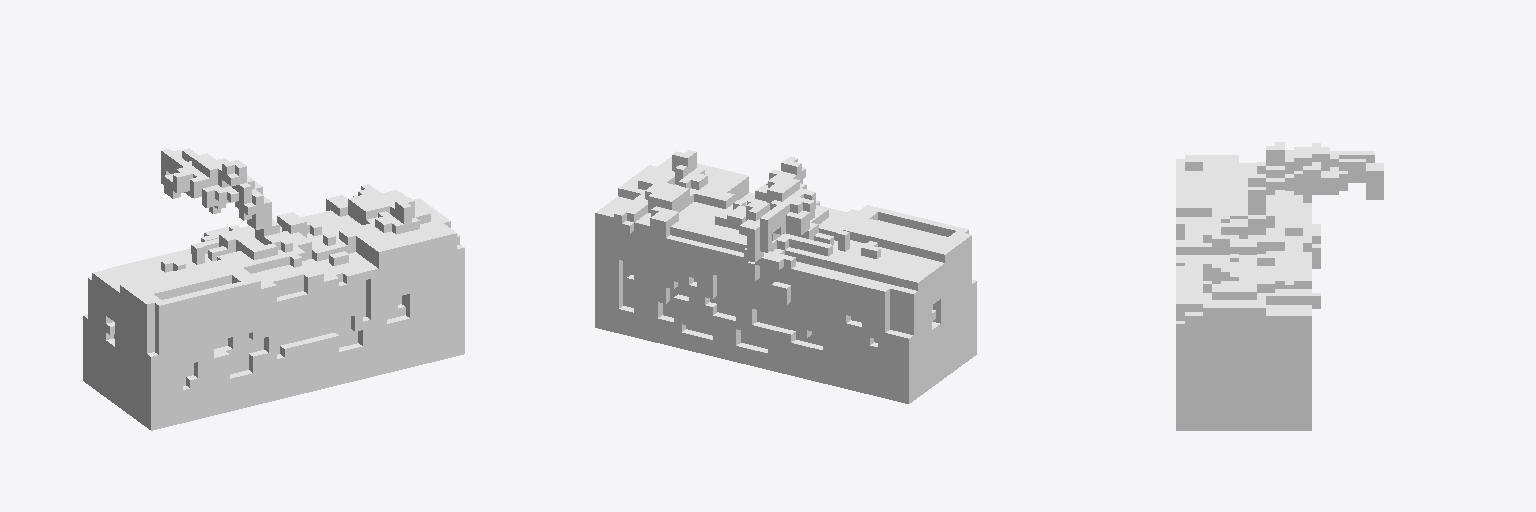
Rendered from newall2-0-newal1.obj.
The picture shows the model from 3 angles: view 1: azimuth 30°, elevation 25°; view 2: azimuth 150°, elevation 25°; view 3: azimuth 270°, elevation 25°; orthographic projection.
Visible parts, largest first — view 1: newal1; view 2: newal1; view 3: newal1.
Part boxes in pixels (left/top/right/bottom): newal1: left=83, top=148, right=464, bottom=430; newal1: left=595, top=150, right=976, bottom=403; newal1: left=1176, top=142, right=1383, bottom=430.
Bounding box in the file's own units: 4 × 2.4 × 2.3.